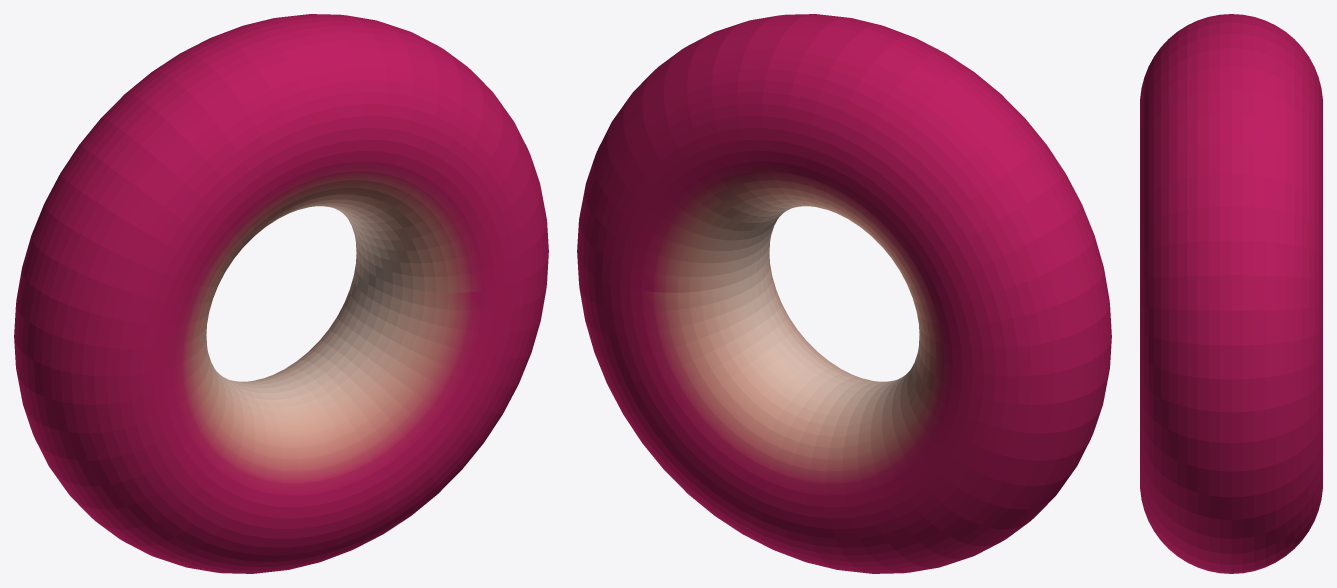
3 renders of one model, left to right at view 1: azimuth 30°, elevation 25°; view 2: azimuth 150°, elevation 25°; view 3: azimuth 270°, elevation 25°, orthographic. The views are drawn at different scales.
Visible parts, largest first — view 1: world; view 2: world; view 3: world.
Part boxes in pixels (x1,y1,x2,y2): world: [14, 14, 548, 573]; world: [577, 14, 1111, 573]; world: [1140, 14, 1322, 573].
Bounding box in the file's own units: 29.73 × 29.67 × 9.71.
